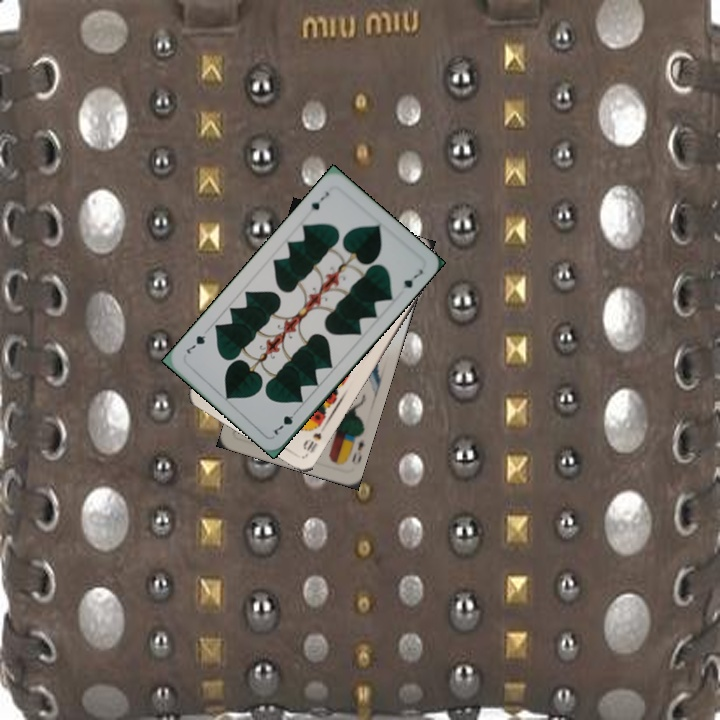EO: (344, 431, 367, 465)
G7: (270, 405, 301, 438), (307, 187, 332, 213)
S10: (299, 428, 324, 458)
